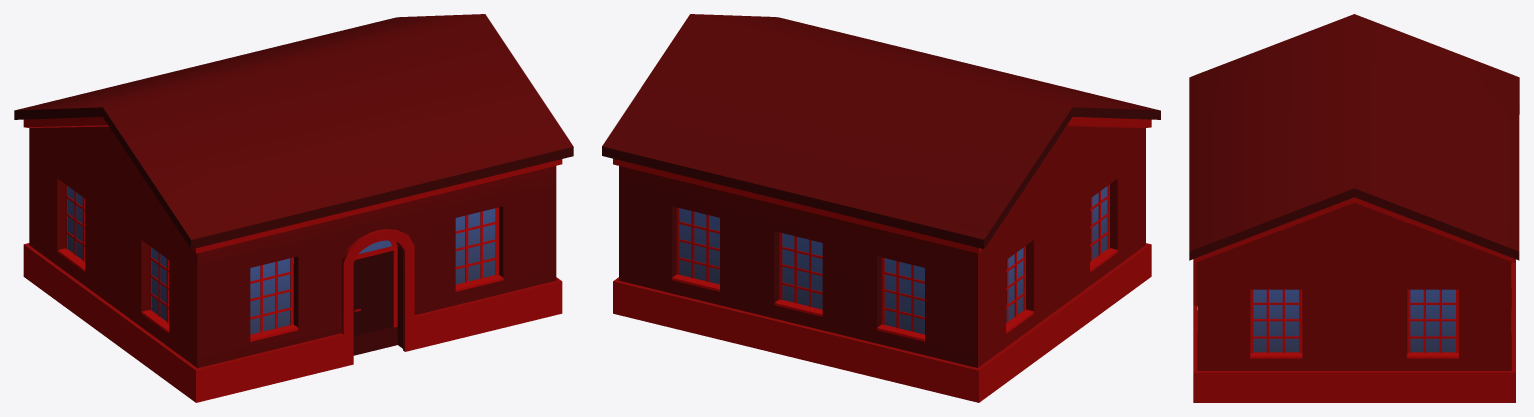
File: buildings-business-smallbusiness_v1.fbx
3 renders of one model, left to right at view 1: azimuth 30°, elevation 25°; view 2: azimuth 150°, elevation 25°; view 3: azimuth 270°, elevation 25°, orthographic. The views are drawn at different scales.
Parts seen in each view (by area): view 1: SmallBusiness_v1_base5, SmallBusiness_v1_color, SmallBusiness_v1_windowRefl; view 2: SmallBusiness_v1_base5, SmallBusiness_v1_color, SmallBusiness_v1_windowRefl; view 3: SmallBusiness_v1_base5, SmallBusiness_v1_color, SmallBusiness_v1_windowRefl.
Boxes of the visible parts, bbox=[...] form: SmallBusiness_v1_base5: bbox=[14, 14, 573, 402]; SmallBusiness_v1_color: bbox=[29, 126, 556, 368]; SmallBusiness_v1_windowRefl: bbox=[68, 186, 495, 334]; SmallBusiness_v1_base5: bbox=[602, 14, 1160, 402]; SmallBusiness_v1_color: bbox=[619, 126, 1145, 367]; SmallBusiness_v1_windowRefl: bbox=[679, 186, 1107, 334]; SmallBusiness_v1_base5: bbox=[1189, 14, 1519, 402]; SmallBusiness_v1_color: bbox=[1197, 203, 1511, 370]; SmallBusiness_v1_windowRefl: bbox=[1253, 289, 1455, 352].
Size of the model in its own units: 18.48 by 10.81 by 14.79.
